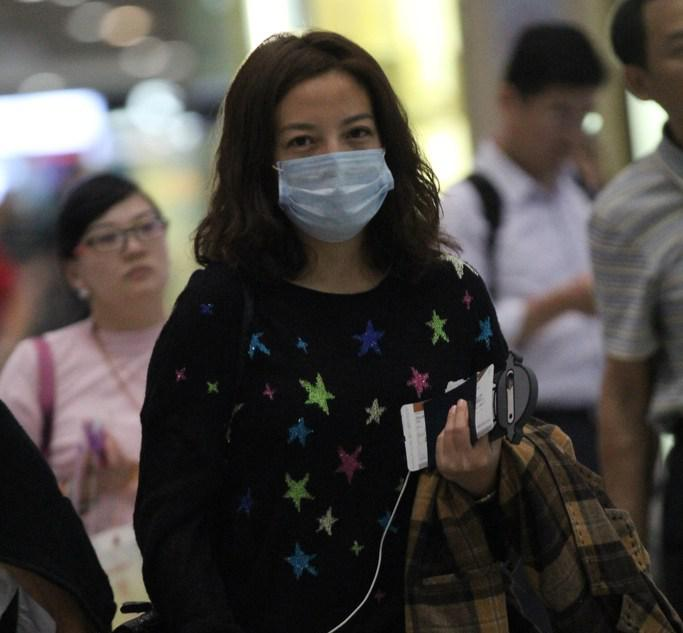NONE: (89, 210, 169, 295)
OK: (275, 111, 399, 235)
